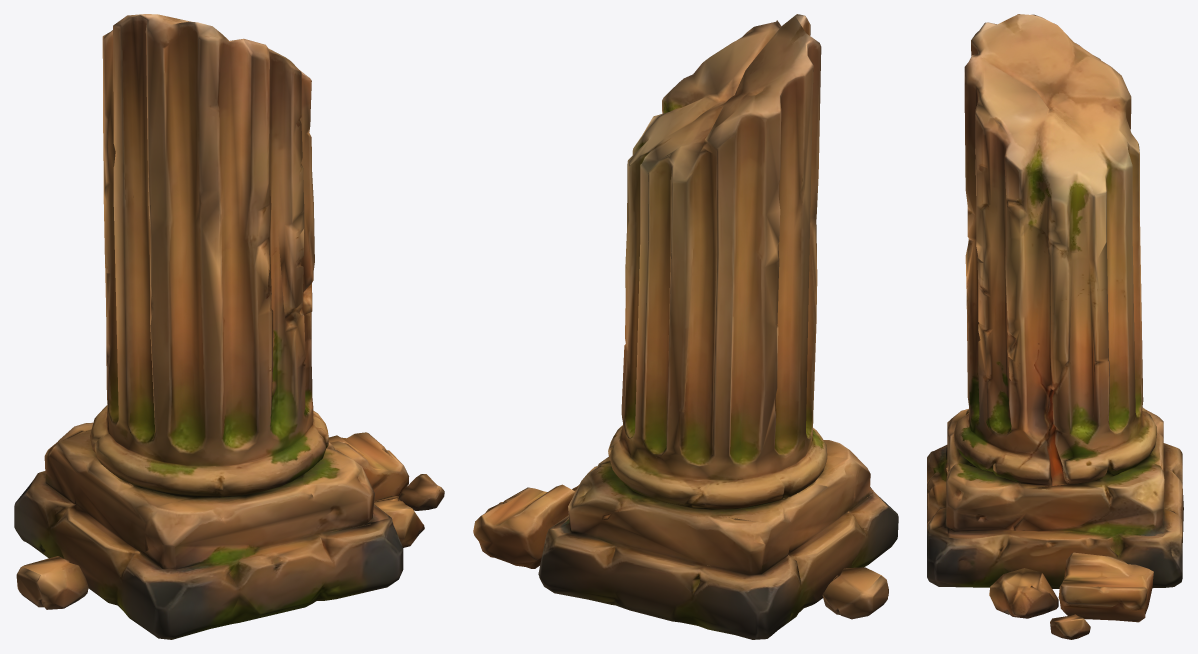
File: broken_column.glb
The picture shows the model from 3 angles, left to right: view 1: azimuth 30°, elevation 25°; view 2: azimuth 150°, elevation 25°; view 3: azimuth 270°, elevation 25°; orthographic projection. The views are drawn at different scales.
Visible parts, largest first — view 1: tripo_node_ba777685-ed5e-4e2c-85f1-7da8d5a5f3ad; view 2: tripo_node_ba777685-ed5e-4e2c-85f1-7da8d5a5f3ad; view 3: tripo_node_ba777685-ed5e-4e2c-85f1-7da8d5a5f3ad.
Boxes of the visible parts, bbox=[...] form: tripo_node_ba777685-ed5e-4e2c-85f1-7da8d5a5f3ad: bbox=[14, 14, 444, 639]; tripo_node_ba777685-ed5e-4e2c-85f1-7da8d5a5f3ad: bbox=[473, 14, 898, 639]; tripo_node_ba777685-ed5e-4e2c-85f1-7da8d5a5f3ad: bbox=[927, 14, 1183, 639].
Bounding box in the file's own units: 16.66 × 22 × 10.33.
1 material, 1 textured.
